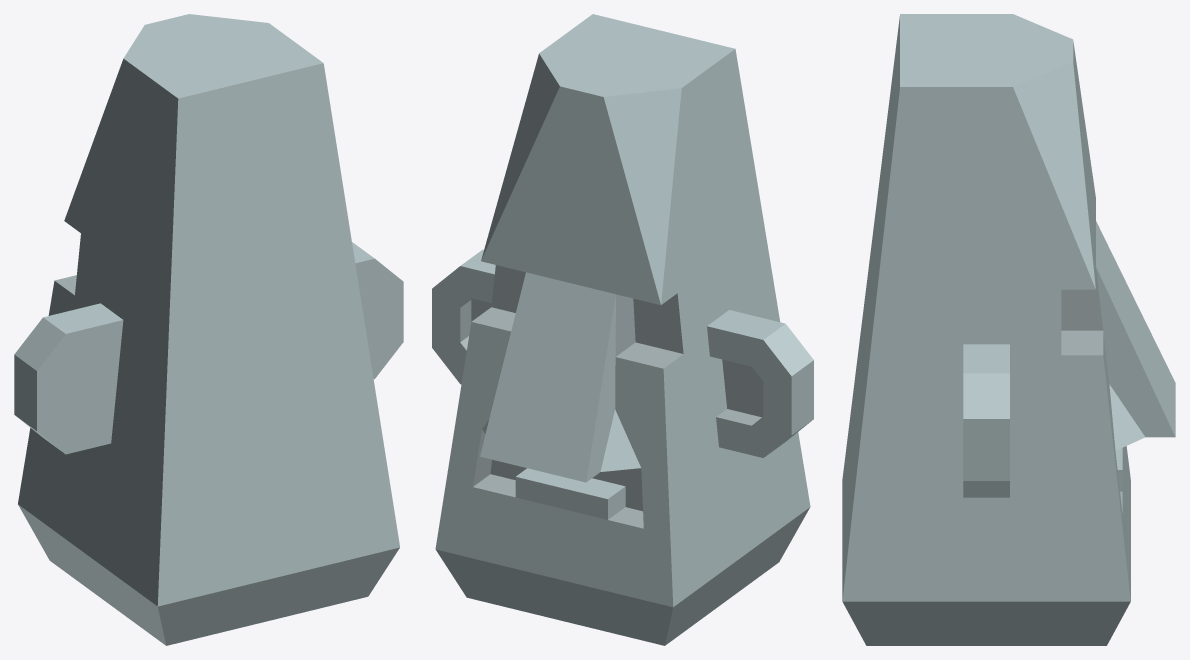
Rendered from statue_head.glb.
The picture shows the model from 3 angles, left to right: view 1: azimuth 30°, elevation 25°; view 2: azimuth 150°, elevation 25°; view 3: azimuth 270°, elevation 25°; orthographic projection. The views are drawn at different scales.
Parts seen in each view (by area): view 1: statue_head; view 2: statue_head; view 3: statue_head.
Part boxes in pixels (x1=…): statue_head: x1=14, y1=14, x2=403, y2=645; statue_head: x1=432, y1=14, x2=813, y2=645; statue_head: x1=842, y1=14, x2=1175, y2=645.
Size of the model in its own units: 0.726 by 1 by 0.5544.
